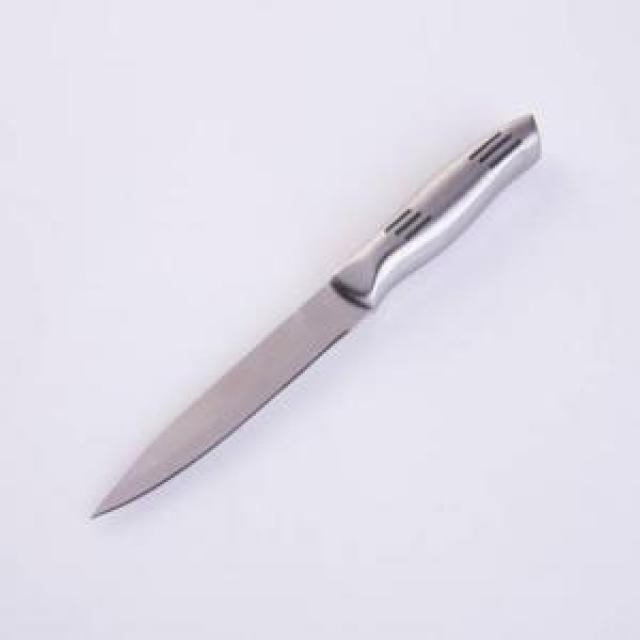knife: (92, 109, 542, 519)
